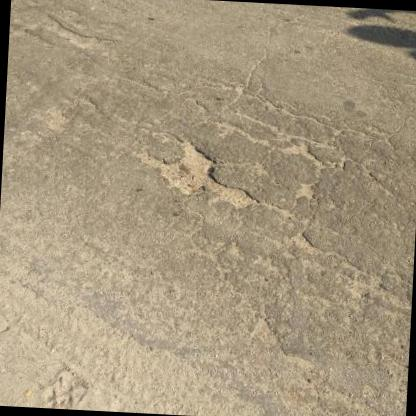pothole: (132, 136, 260, 212)
